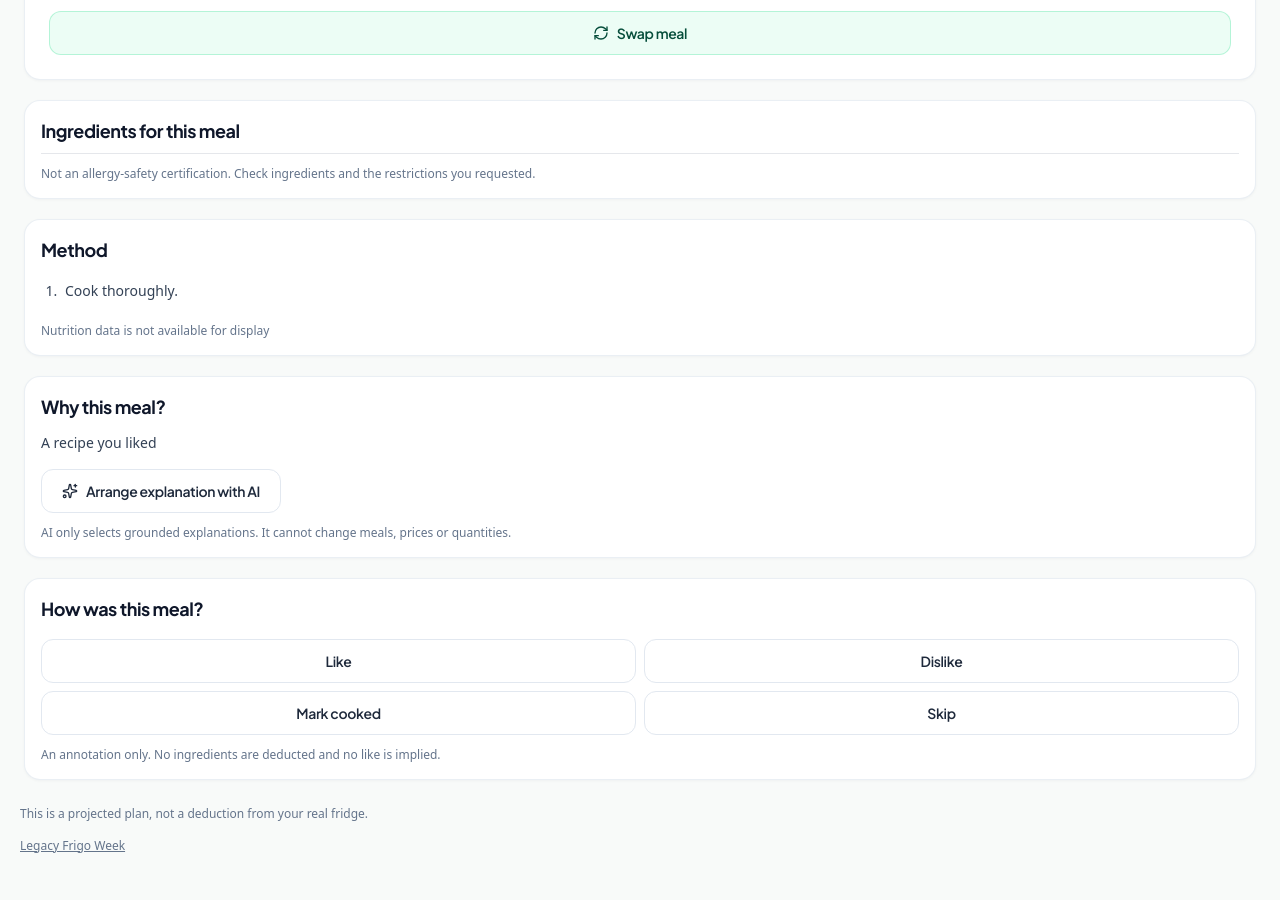
mounted planner mutation interactions › records liked through a revision-fenced receipt without claiming inventory mutation
(page scrolled)
Click the button "Like": (338, 661) [41,639,636,683]
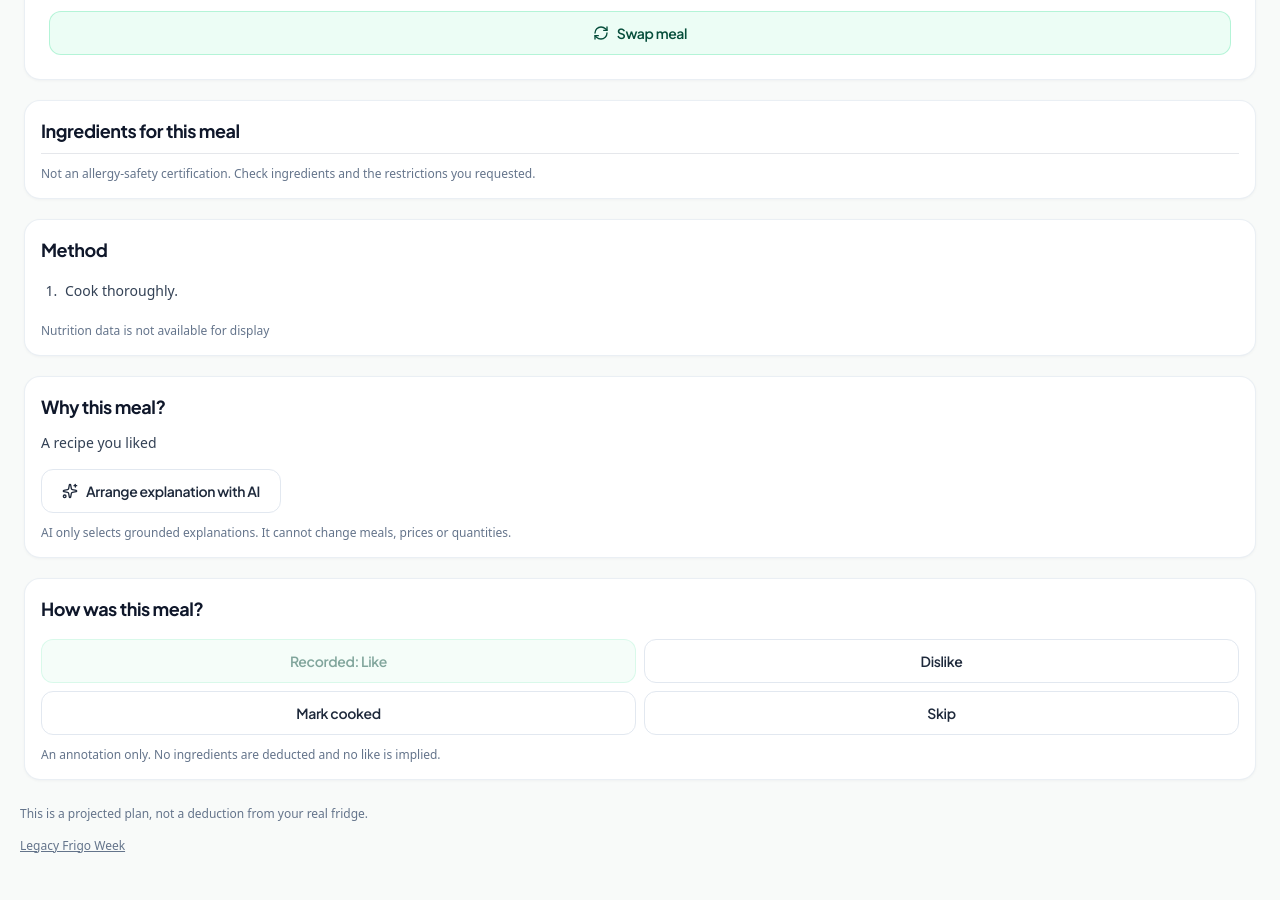
Expected: the text "An annotation only. No ingredients are deducted" is shown, [41,746,441,763]
Expected: the button "Recorded: Like" is disabled, [41,639,636,683]
